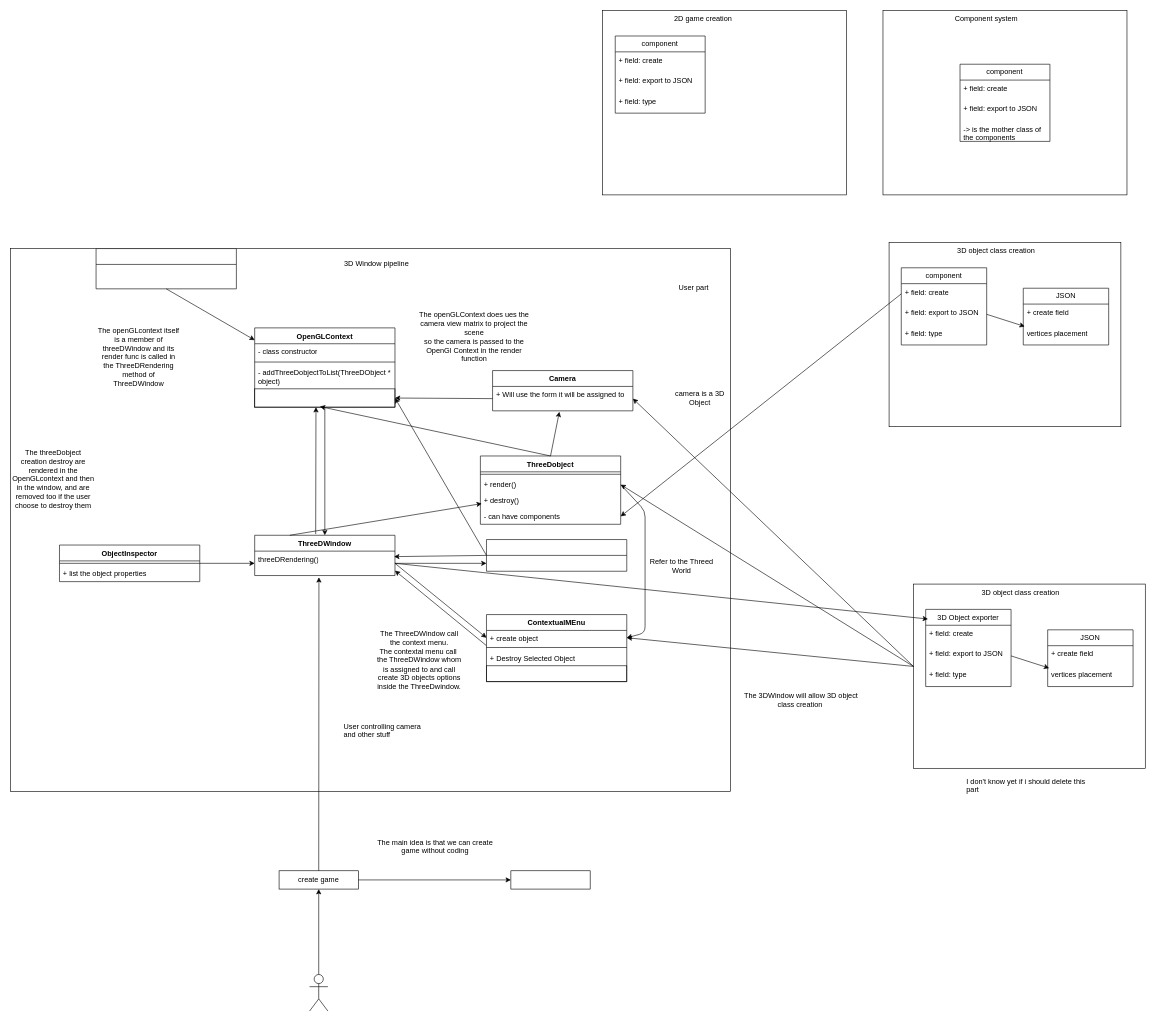
This 1156x1035 diagram has some shape labels left out. The shapes that lost their labels are listed below. From the top down, each one's centre as x and y in pixels, then its label:
pixel 165 268: ThreeDSceneDrawer
pixel 324 397: Render
pixel 556 555: Hierarchy Inspector
pixel 556 673: Get created forms
pixel 550 879: Export and build game
pixel 318 992: Actor
